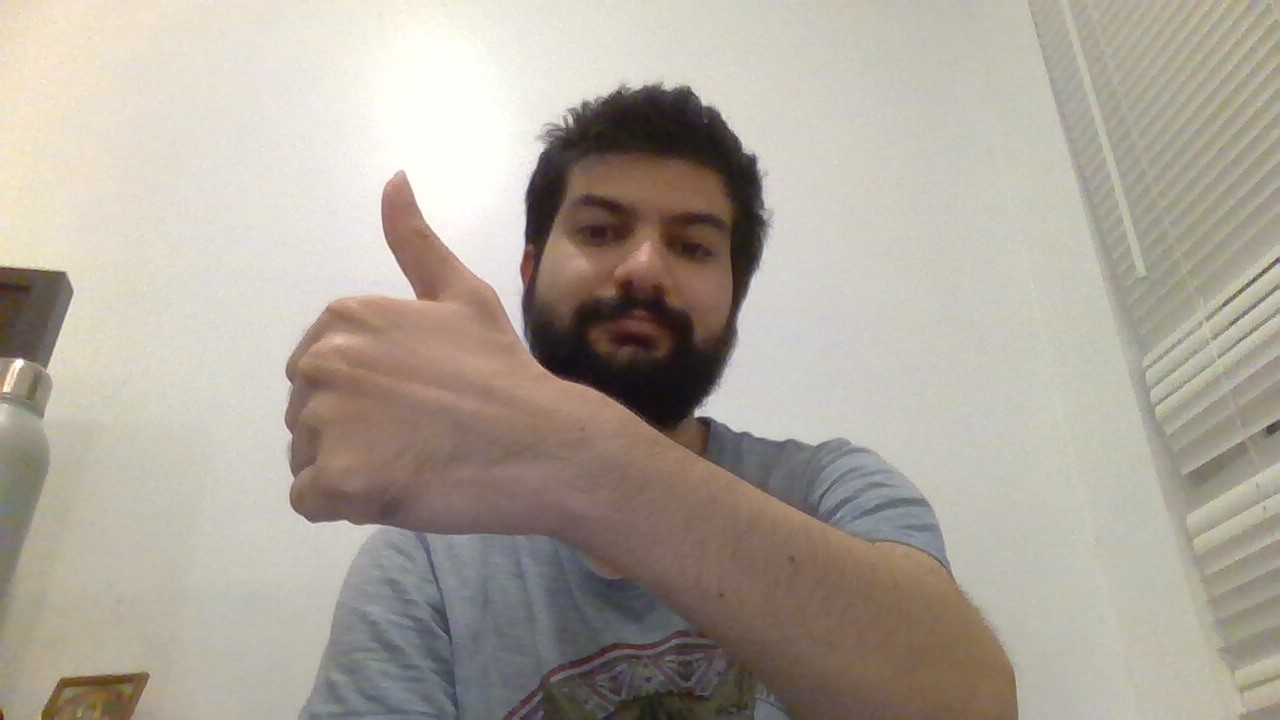up: (229, 158, 553, 535)
